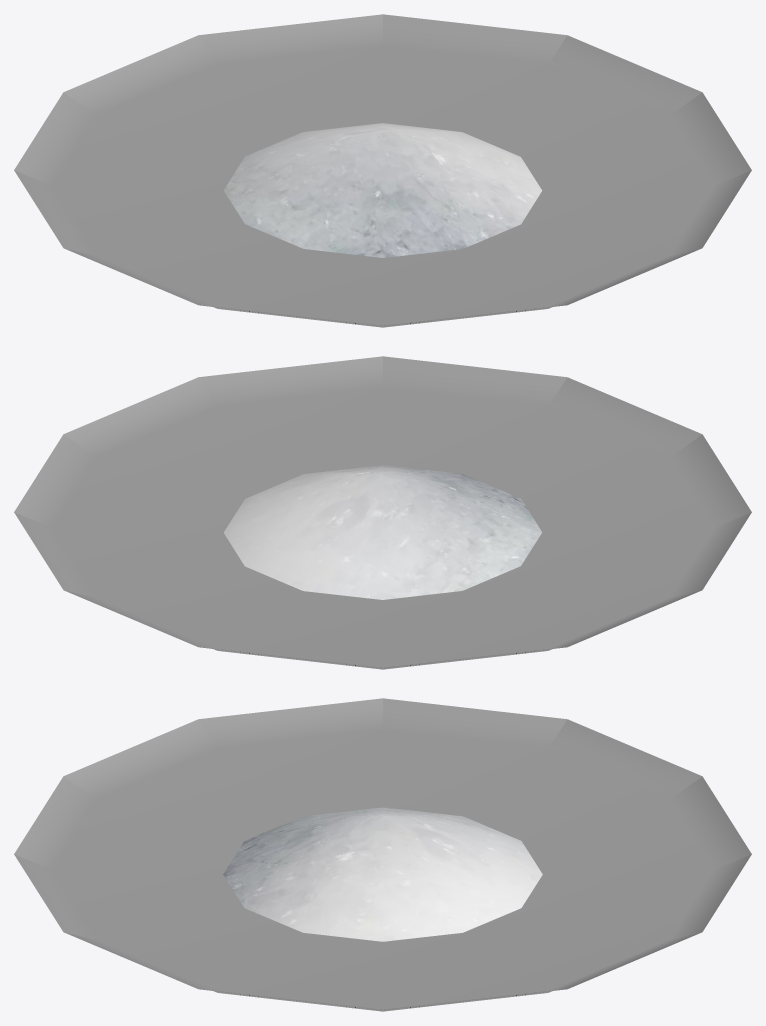
The model's file is sliver_chloride.fbx.
3 views of the same model, one above another, from view 1: azimuth 30°, elevation 25°; view 2: azimuth 150°, elevation 25°; view 3: azimuth 270°, elevation 25° (orthographic).
Visible parts, largest first — view 1: sliver_chloride; view 2: sliver_chloride; view 3: sliver_chloride.
Boxes of the visible parts, bbox=[...] form: sliver_chloride: bbox=[14, 14, 751, 327]; sliver_chloride: bbox=[14, 356, 751, 669]; sliver_chloride: bbox=[14, 698, 751, 1011].
Size of the model in its own units: 26.45 by 2.87 by 26.45.
Materials: 2 (1 with a texture image).
